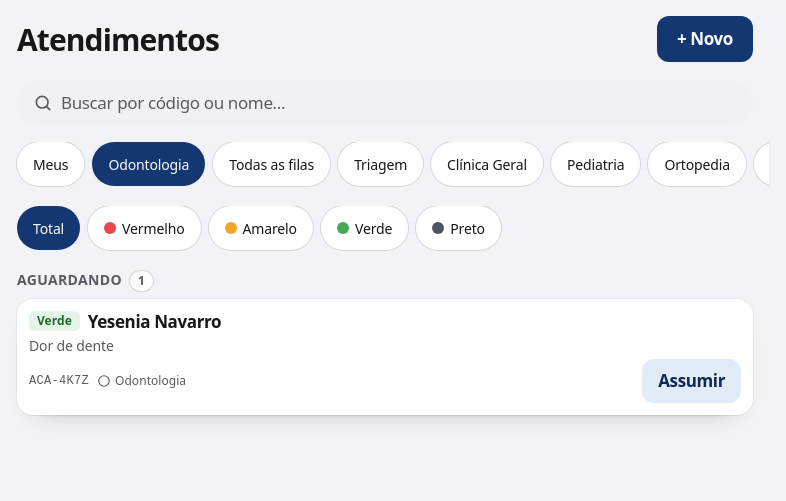
Test: Fila de atendimentos › mostra a recusa do servidor com o nome de quem já pegou
Click the button "Assumir" at (692, 381), box [642, 359, 741, 403]
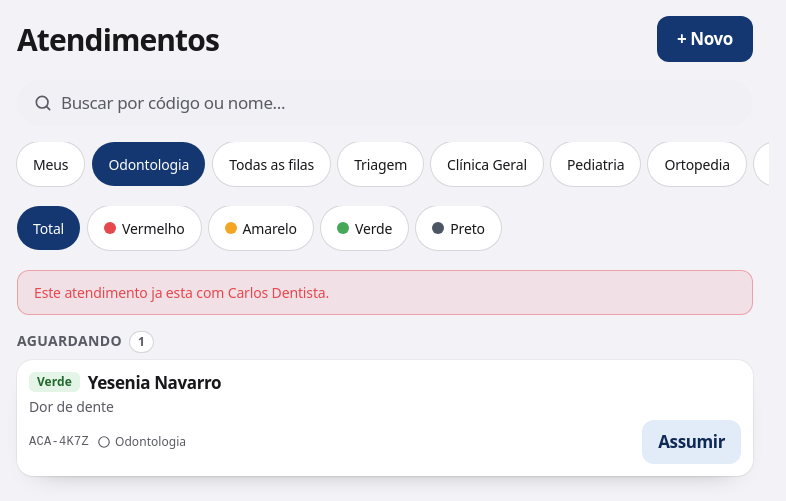
Expected: the text "Este atendimento ja esta com Carlos Dentista." is shown, [17, 270, 753, 315]
